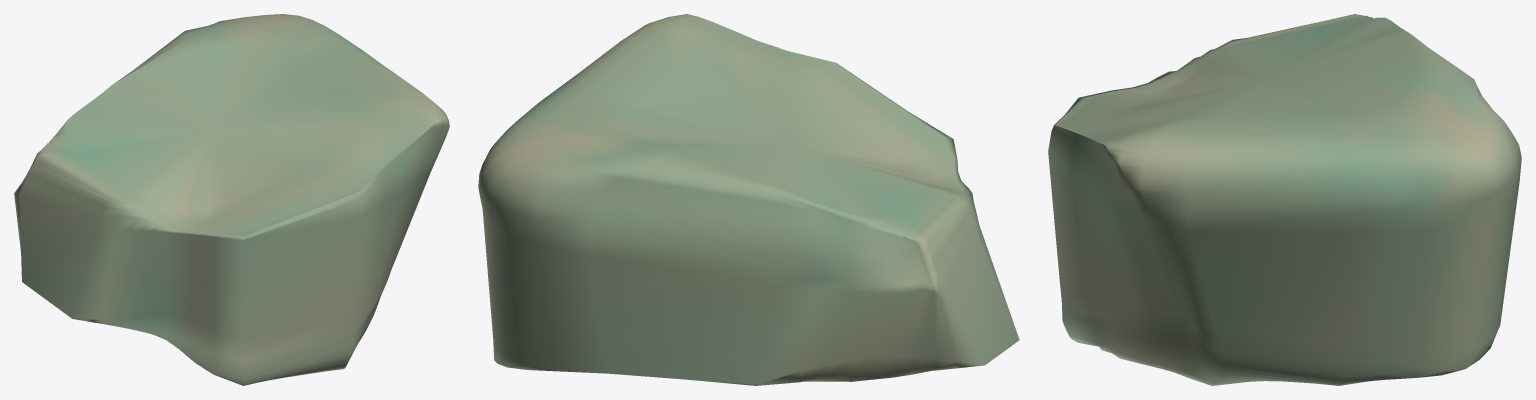
Rendered from SM_Rock_01.glb.
The picture shows the model from 3 angles, left to right: view 1: azimuth 30°, elevation 25°; view 2: azimuth 150°, elevation 25°; view 3: azimuth 270°, elevation 25°; orthographic projection. The views are drawn at different scales.
Visible parts, largest first — view 1: SM_Rock_01; view 2: SM_Rock_01; view 3: SM_Rock_01.
Part boxes in pixels (left/top/right/bottom): SM_Rock_01: left=14, top=14, right=449, bottom=385; SM_Rock_01: left=478, top=14, right=1019, bottom=385; SM_Rock_01: left=1048, top=14, right=1521, bottom=385.
Bounding box in the file's own units: 0.9182 × 0.5354 × 0.8466.
